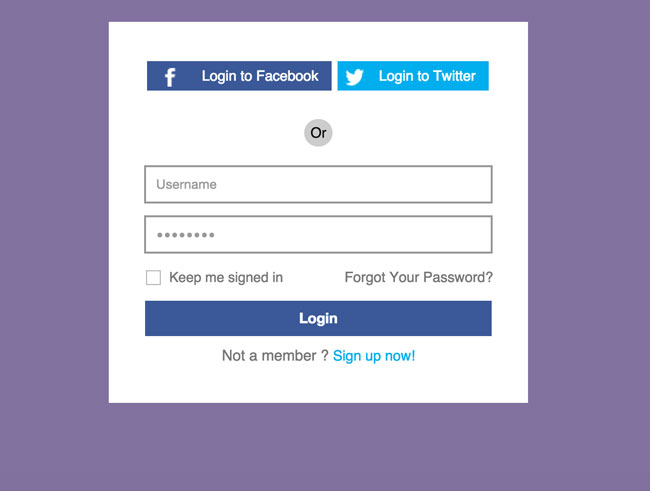_form_: (108, 11, 525, 427)
button: (143, 299, 494, 339)
checkbox: (143, 267, 161, 287)
field: (142, 163, 493, 206), (142, 213, 493, 254)
